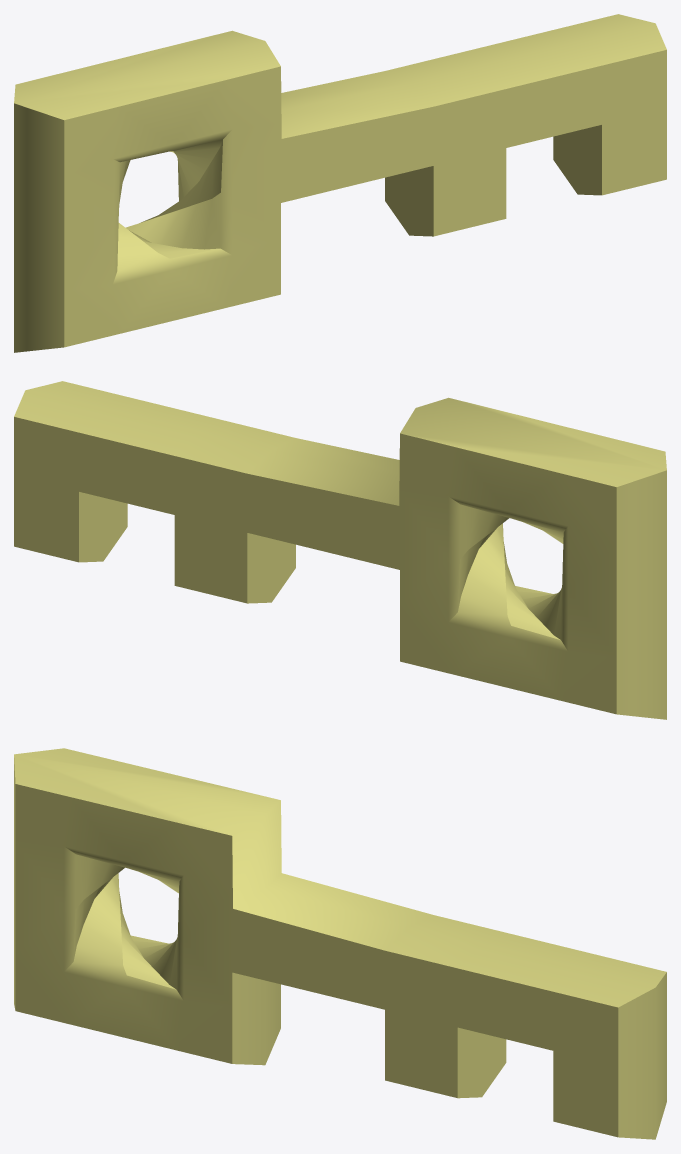
File: GMD300_DH_Key.fbx
3 renders of one model, top to bottom at view 1: azimuth 30°, elevation 25°; view 2: azimuth 150°, elevation 25°; view 3: azimuth 330°, elevation 25°, orthographic.
Visible parts, largest first — view 1: pCube1; view 2: pCube1; view 3: pCube1.
Part boxes in pixels (x1,y1,x2,y2): pCube1: (14, 14, 666, 352); pCube1: (14, 381, 666, 719); pCube1: (14, 748, 666, 1139).
Bounding box in the file's own units: 3.87 × 1.45 × 0.5094.
